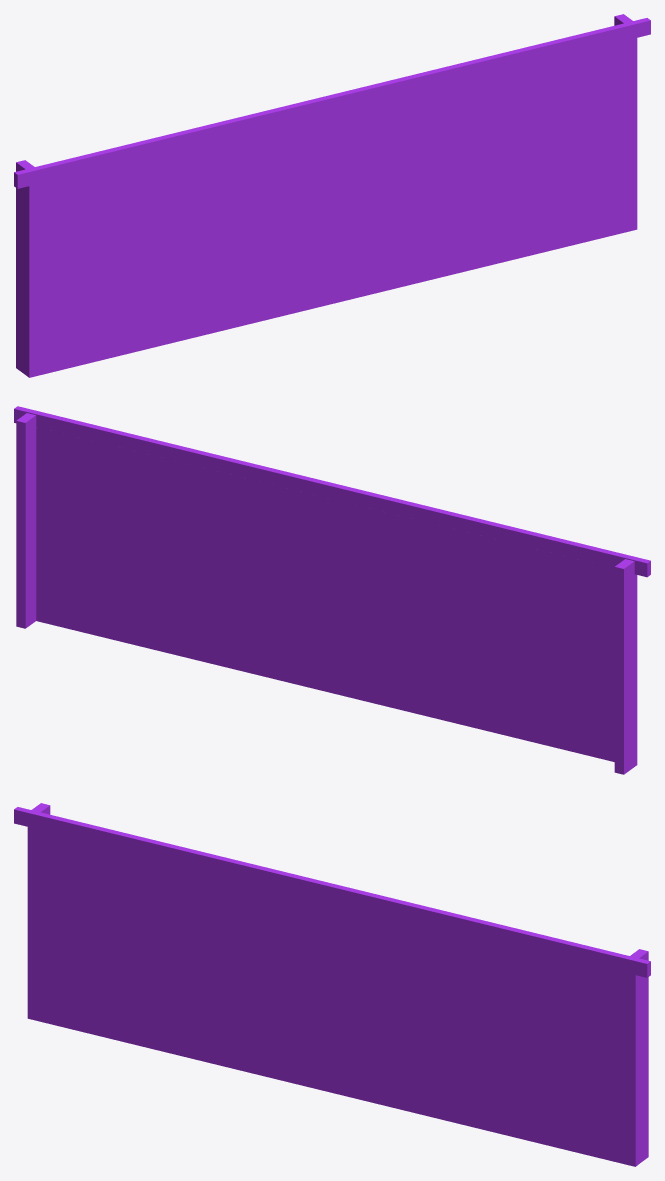
The model's file is Building_TopLevel.FBX.
The picture shows the model from 3 angles, top to bottom: view 1: azimuth 30°, elevation 25°; view 2: azimuth 150°, elevation 25°; view 3: azimuth 330°, elevation 25°; orthographic projection.
Parts seen in each view (by area): view 1: BuildingTopLevel; view 2: BuildingTopLevel; view 3: BuildingTopLevel.
Boxes of the visible parts, bbox=[...] form: BuildingTopLevel: bbox=[14, 14, 650, 377]; BuildingTopLevel: bbox=[14, 406, 650, 774]; BuildingTopLevel: bbox=[14, 803, 650, 1166].
Size of the model in its own units: 790 by 246 by 31.
